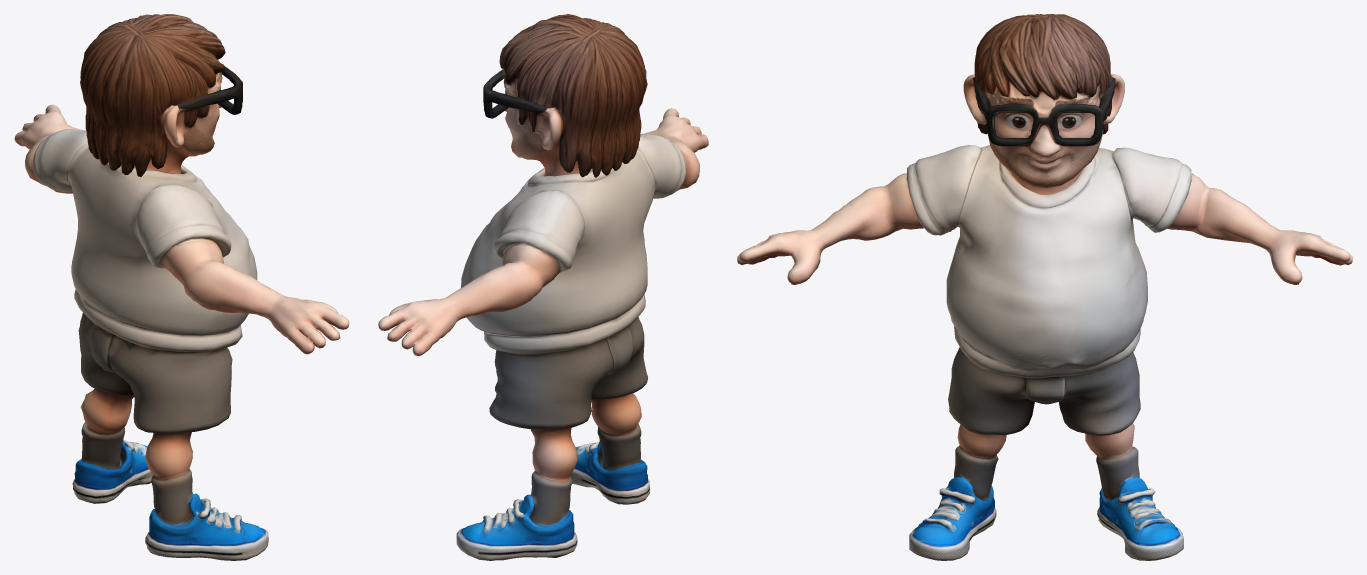
3 renders of one model, left to right at view 1: azimuth 30°, elevation 25°; view 2: azimuth 150°, elevation 25°; view 3: azimuth 270°, elevation 25°, orthographic. The views are drawn at different scales.
Visible parts, largest first — view 1: tripo_node_7e00a10f; view 2: tripo_node_7e00a10f; view 3: tripo_node_7e00a10f.
Part boxes in pixels (left/top/right/bottom): tripo_node_7e00a10f: left=14, top=14, right=349, bottom=560; tripo_node_7e00a10f: left=378, top=14, right=708, bottom=560; tripo_node_7e00a10f: left=737, top=14, right=1352, bottom=560.
Bounding box in the file's own units: 0.3112 × 0.9256 × 1.
Materials: 1 (1 with a texture image).
